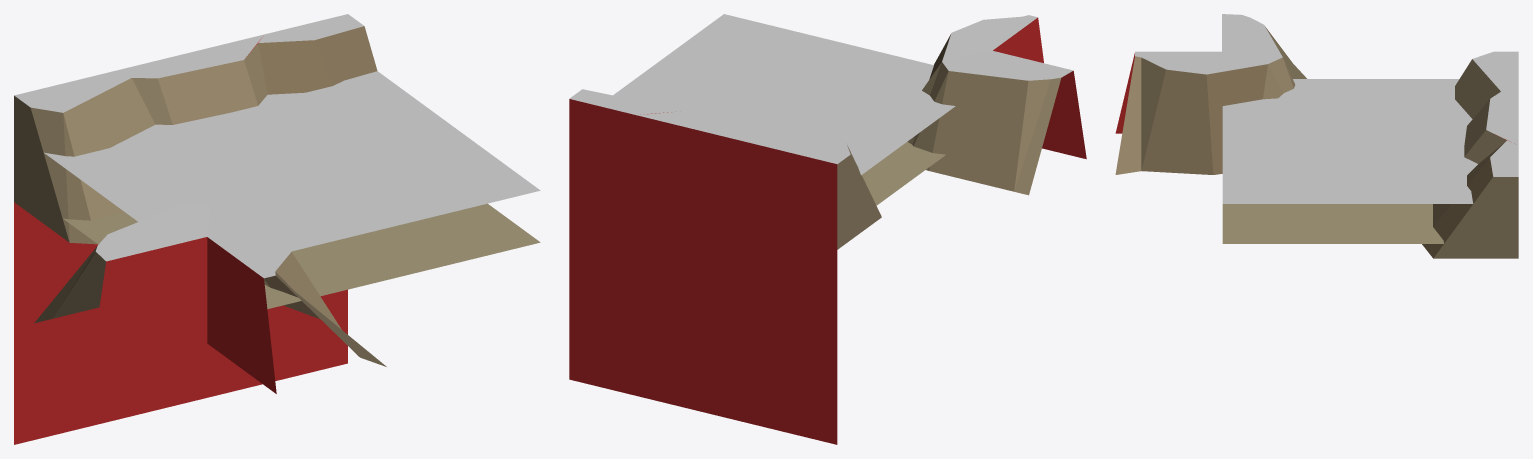
The model's file is Model_Horde_River_3WLTR_LW_RG.fbx.
3 views of the same model, side by side, from view 1: azimuth 30°, elevation 25°; view 2: azimuth 150°, elevation 25°; view 3: azimuth 270°, elevation 25° (orthographic). The views are drawn at different scales.
Parts seen in each view (by area): view 1: Model_Frost_Rivers12; view 2: Model_Frost_Rivers12; view 3: Model_Frost_Rivers12.
Boxes of the visible parts, <box> form: Model_Frost_Rivers12: <box>14,14,540,444</box>; Model_Frost_Rivers12: <box>569,14,1086,444</box>; Model_Frost_Rivers12: <box>1115,14,1518,258</box>.
Size of the model in its own units: 270 by 200 by 272.
